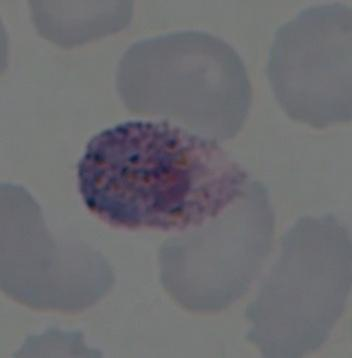Infected: (75, 122, 246, 230)
Uninfected: (155, 179, 274, 313), (244, 214, 352, 358), (115, 28, 252, 137), (0, 185, 115, 314), (265, 0, 352, 128)
